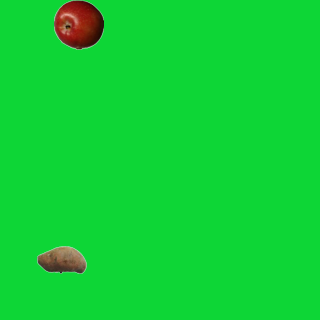Apple Braeburn: (53, 0, 103, 49)
Potato Sweet: (36, 234, 86, 284)
